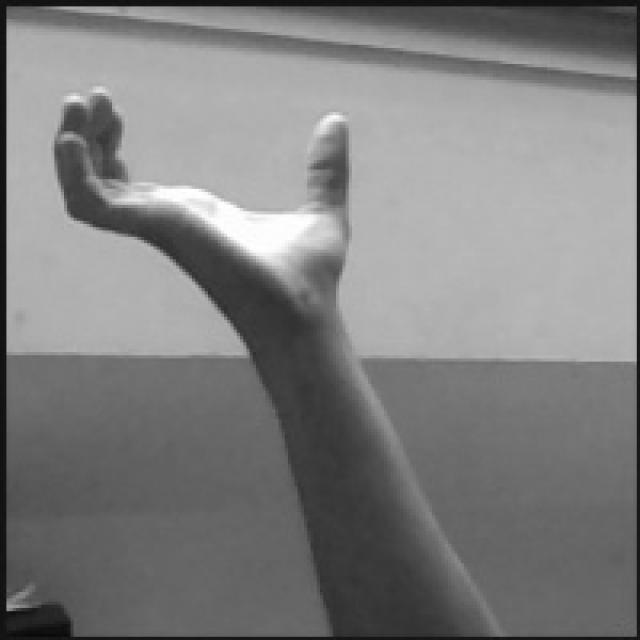space: (53, 79, 355, 304)
